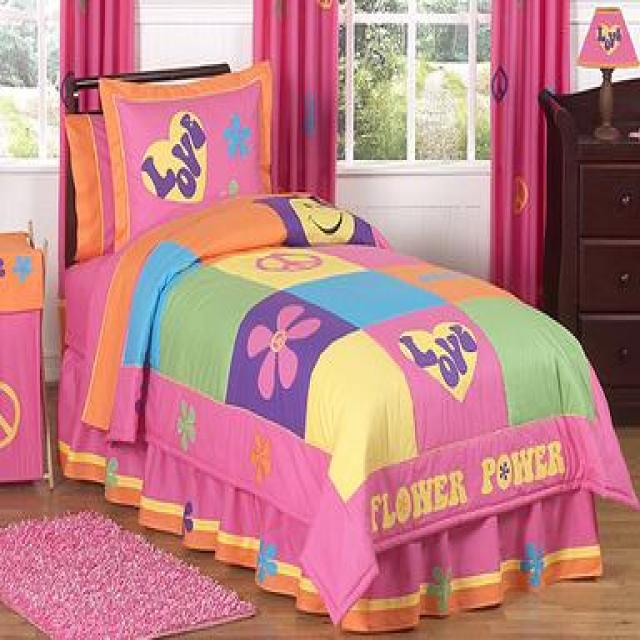bed: (58, 59, 640, 631)
